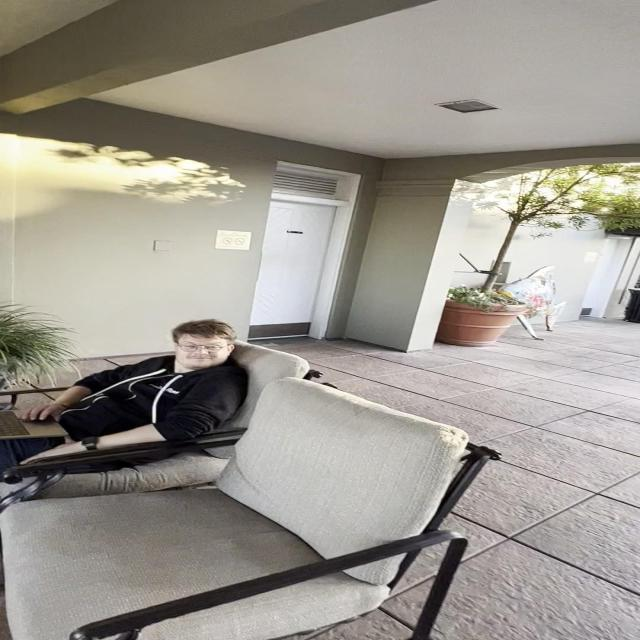NO-Mask: (178, 330, 231, 369)
